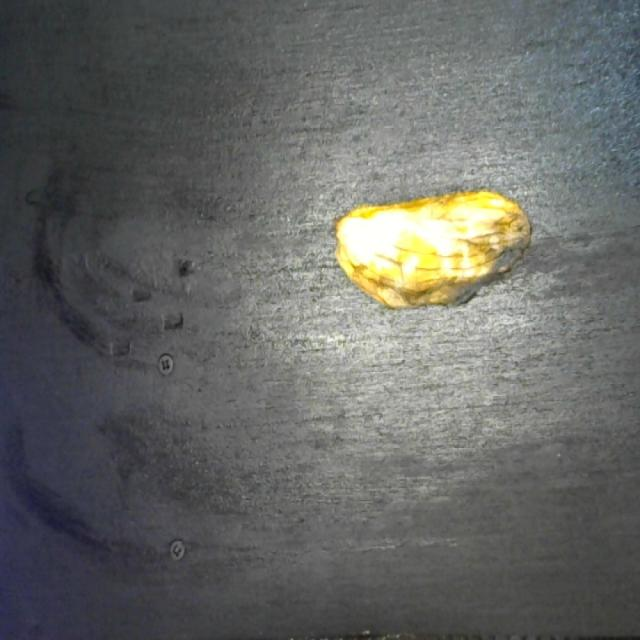biodegradable: (333, 185, 536, 318)
